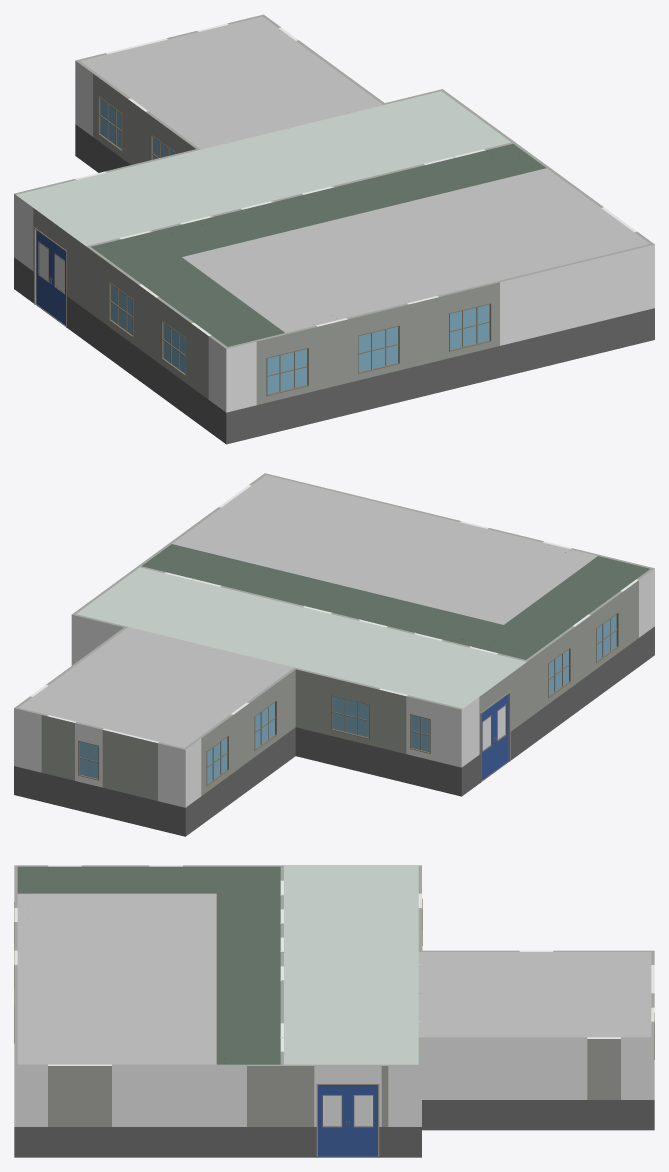
Rendered from demo_lab.gltf.
The picture shows the model from 3 angles, top to bottom: view 1: azimuth 30°, elevation 25°; view 2: azimuth 150°, elevation 25°; view 3: azimuth 270°, elevation 25°; orthographic projection. The views are drawn at different scales.
Parts seen in each view (by area): view 1: SM_Wall_402, SM_Window_6, SM_Window_7, SM_Window_8, SM_Wall_Angle_8, SM_Ceiling_318, SM_Ceiling_319, SM_Ceiling_321, SM_Ceiling_317, SM_Ceiling_313, SM_Ceiling_323, SM_Ceiling_314 (+45 smaller); view 2: SM_Wall_68, SM_Window_322, SM_Ceiling_317, SM_Ceiling_318, SM_Ceiling_313, SM_Ceiling_319, SM_Ceiling_321, SM_Ceiling_323, SM_Wall_Angle_4, SM_Wall_Angle_02_21, SM_Wall_Angle_38, SM_Ceiling_314 (+47 smaller); view 3: SM_Wall_401, SM_Wall_403, SM_Wall_Angle_6, SM_Ceiling_313, SM_Ceiling_319, SM_Ceiling_321, SM_Ceiling_317, SM_Ceiling_318, SM_Ceiling_323, SM_Ceiling_312, SM_Ceiling_316, SM_Ceiling_320 (+43 smaller).
Boxes of the visible parts, left/top/right/bottom form: SM_Wall_402: left=498, top=251, right=621, bottom=377; SM_Window_6: left=255, top=325, right=317, bottom=436; SM_Window_7: left=346, top=303, right=408, bottom=414; SM_Window_8: left=438, top=281, right=499, bottom=392; SM_Wall_Angle_8: left=208, top=335, right=256, bottom=444; SM_Ceiling_318: left=273, top=212, right=416, bottom=273; SM_Ceiling_319: left=182, top=235, right=325, bottom=295; SM_Ceiling_321: left=222, top=54, right=365, bottom=114; SM_Ceiling_317: left=365, top=190, right=507, bottom=250; SM_Ceiling_313: left=456, top=168, right=598, bottom=228; SM_Ceiling_323: left=131, top=76, right=274, bottom=136; SM_Ceiling_314: left=417, top=229, right=558, bottom=288; SM_Wall_68: left=102, top=728, right=158, bottom=829; SM_Window_322: left=323, top=675, right=379, bottom=776; SM_Ceiling_317: left=255, top=529, right=385, bottom=584; SM_Ceiling_318: left=338, top=549, right=468, bottom=604; SM_Ceiling_313: left=172, top=509, right=302, bottom=563; SM_Ceiling_319: left=421, top=570, right=550, bottom=624; SM_Ceiling_321: left=65, top=638, right=194, bottom=693; SM_Ceiling_323: left=148, top=659, right=278, bottom=713; SM_Wall_Angle_4: left=158, top=737, right=201, bottom=836; SM_Wall_Angle_02_21: left=434, top=698, right=477, bottom=796; SM_Wall_Angle_38: left=279, top=667, right=324, bottom=766; SM_Ceiling_314: left=303, top=495, right=431, bottom=549; SM_Wall_401: left=452, top=1037, right=587, bottom=1130; SM_Wall_403: left=112, top=1064, right=246, bottom=1157; SM_Wall_Angle_6: left=247, top=1051, right=314, bottom=1157; SM_Ceiling_313: left=115, top=1021, right=216, bottom=1064; SM_Ceiling_319: left=115, top=893, right=216, bottom=936; SM_Ceiling_321: left=452, top=994, right=553, bottom=1037; SM_Ceiling_317: left=115, top=979, right=216, bottom=1021; SM_Ceiling_318: left=115, top=936, right=216, bottom=978; SM_Ceiling_323: left=452, top=952, right=553, bottom=994; SM_Ceiling_312: left=17, top=1021, right=115, bottom=1064; SM_Ceiling_316: left=17, top=893, right=115, bottom=936; SM_Ceiling_320: left=553, top=994, right=651, bottom=1037.
Bounding box in the file's own units: 14.15 × 3.02 × 19.03.
15 materials, 4 textured.
